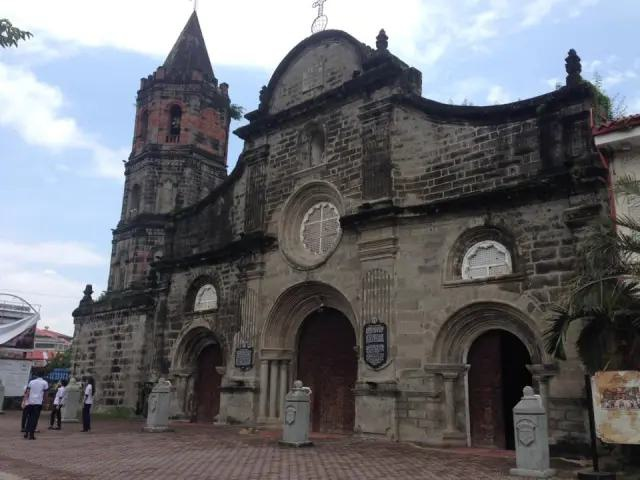barasoain_church_malolos_bulacan: (63, 1, 613, 449)
